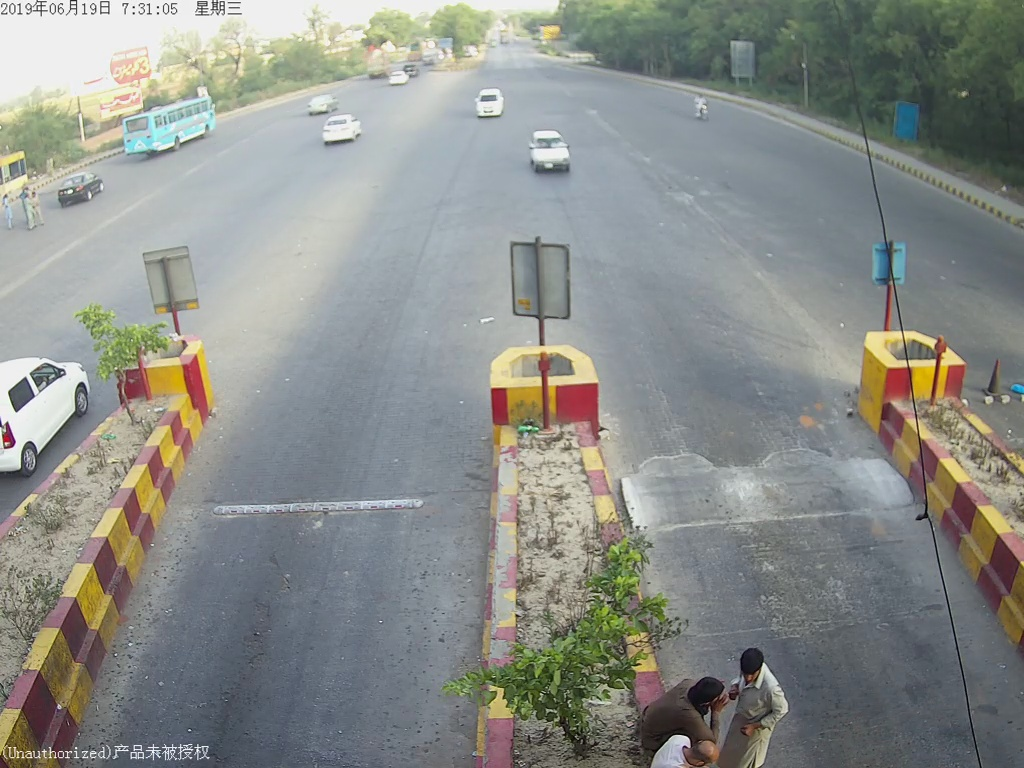Cat-1: (524, 130, 582, 181)
